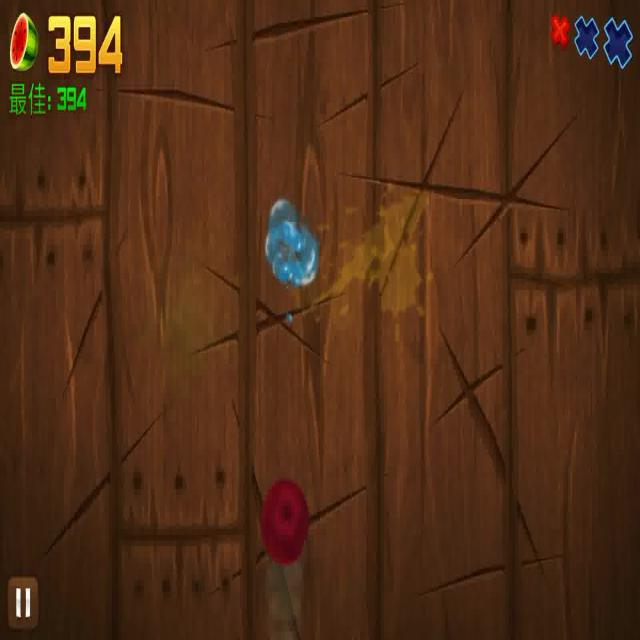fruit: (262, 473, 309, 561)
